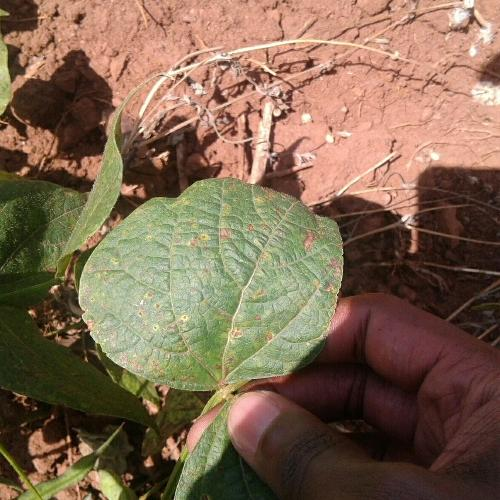hawar: (131, 278, 291, 367), (175, 216, 321, 266)
